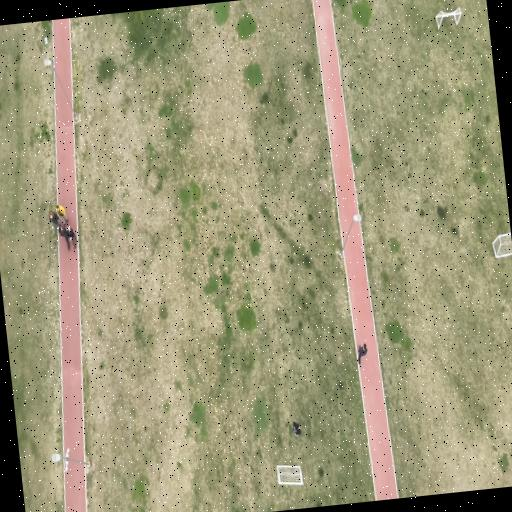person: (58, 225, 70, 250), (65, 226, 77, 250), (56, 203, 68, 223), (358, 344, 367, 365), (49, 212, 60, 228), (293, 422, 301, 436)
